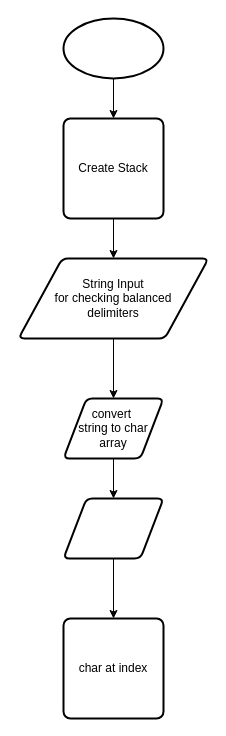
The diagram is 226 pixels wide and 736 high, and some of its shapes have lost their labels. The shapes that lost their labels are listed below. From the top down, each one's centre as x and y in pixels, then its label:
(113,48): Start
(113,528): index = 0
